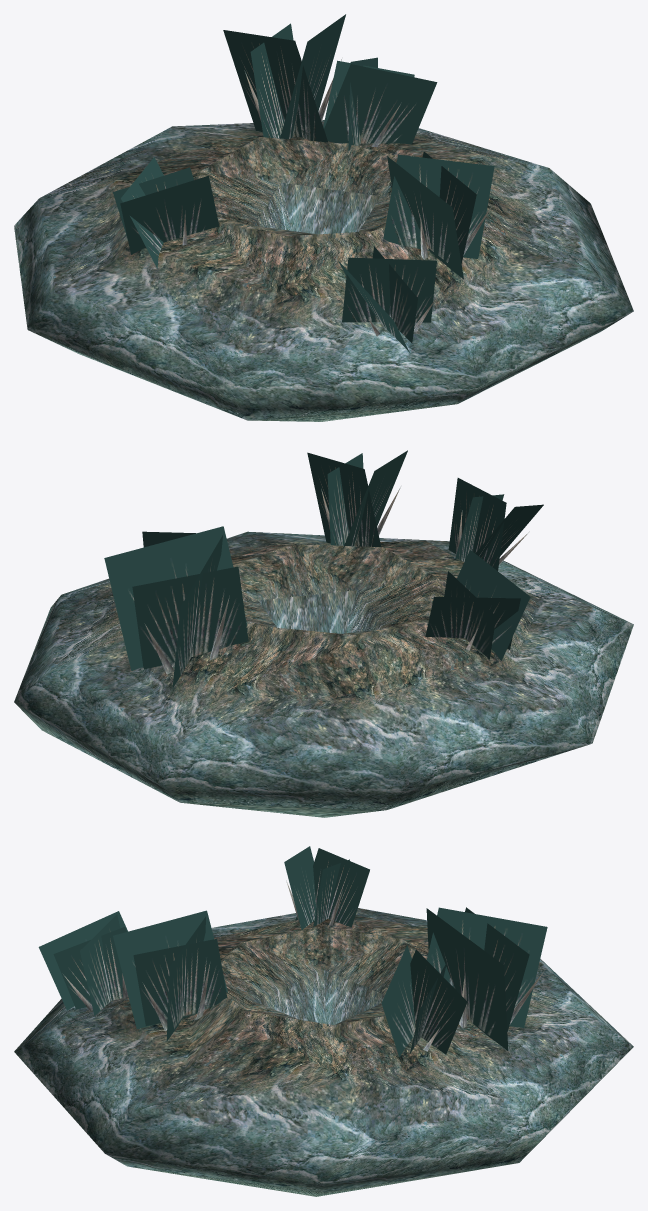
Rendered from rock_crystl_mound_lrg_l1.fbx.
3 views of the same model, one above another, from view 1: azimuth 30°, elevation 25°; view 2: azimuth 150°, elevation 25°; view 3: azimuth 270°, elevation 25° (orthographic). The views are drawn at different scales.
Parts seen in each view (by area): view 1: mesh_node; view 2: mesh_node; view 3: mesh_node.
Boxes of the visible parts, box(x1,y1,x2,y2) form: mesh_node: box(14, 14, 633, 421); mesh_node: box(14, 450, 633, 817); mesh_node: box(14, 846, 633, 1196).
Bounding box in the file's own units: 29.36 × 16.5 × 29.99.
